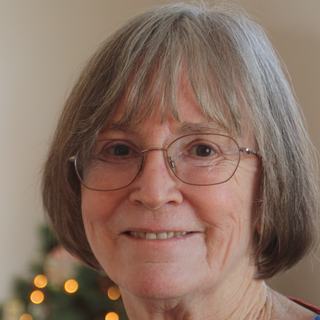eye: (177, 139, 224, 164), (98, 138, 142, 162)
